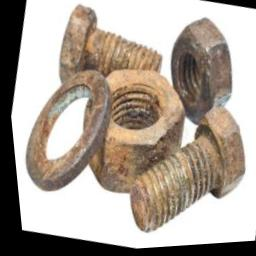Corroded-Bolt: (125, 108, 242, 235), (57, 6, 158, 84)
Corroded-Nut: (84, 70, 182, 196)
Non-corroded Nut: (168, 21, 230, 127)
